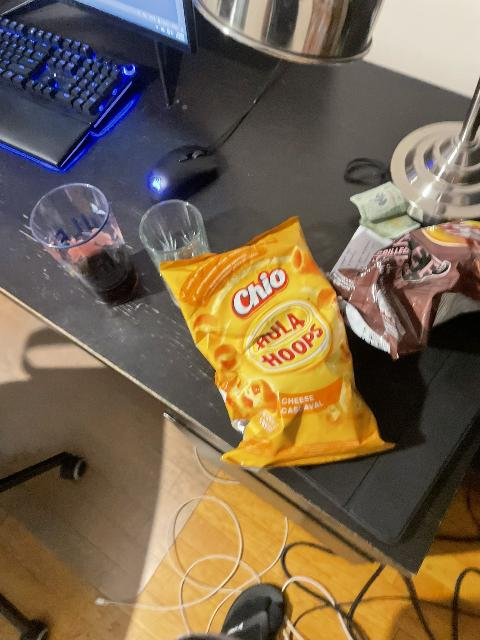Chio Hula Hoops Cheese 70g: (159, 213, 396, 469)
Lays Beef Grilled Ribs 125g: (333, 228, 480, 354)
